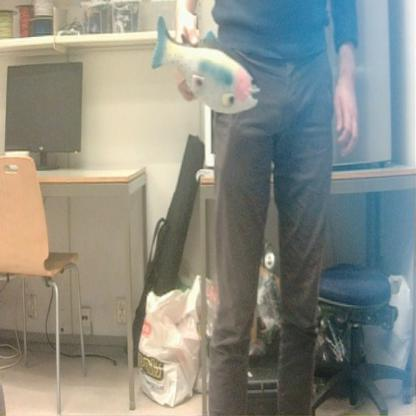rubberfish: (149, 5, 262, 124)
